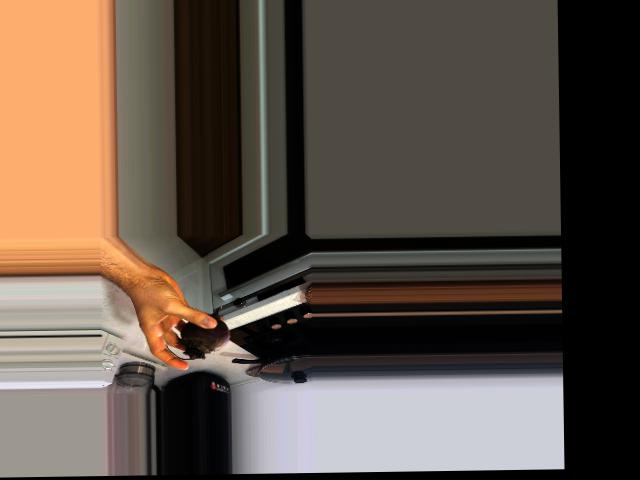beet: (166, 305, 230, 359)
